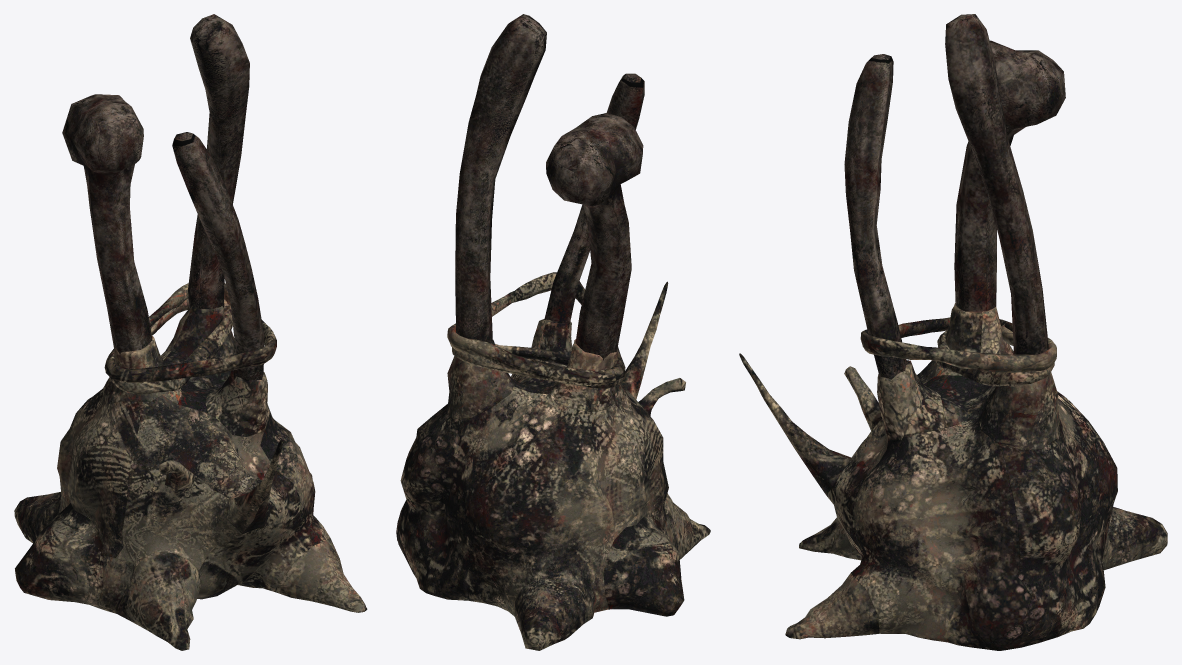
Rendered from fetish_mid_bones.DAE.
3 renders of one model, left to right at view 1: azimuth 30°, elevation 25°; view 2: azimuth 150°, elevation 25°; view 3: azimuth 270°, elevation 25°, orthographic. The views are drawn at different scales.
Parts seen in each view (by area): view 1: fetish_mid_bones; view 2: fetish_mid_bones; view 3: fetish_mid_bones.
Boxes of the visible parts, x1,y1,x2,y2 form: fetish_mid_bones: (14,14,367,650); fetish_mid_bones: (396,14,710,650); fetish_mid_bones: (739,14,1167,650).
Size of the model in its own units: 0.5344 by 0.6609 by 1.
